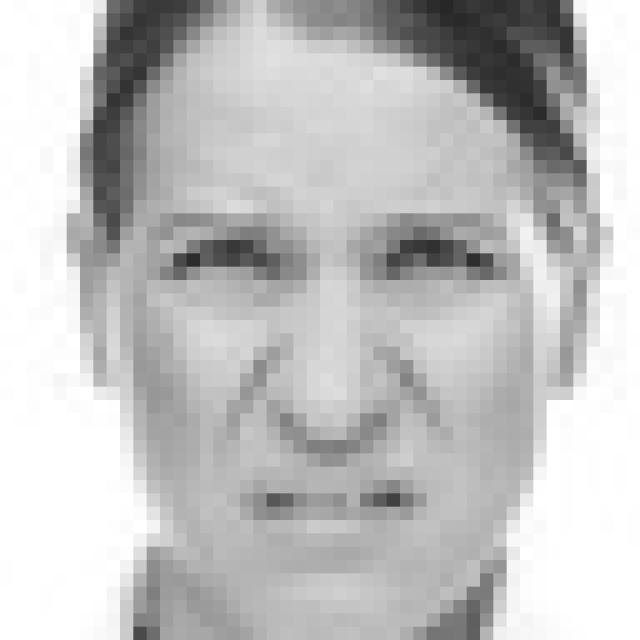disgust: (149, 203, 506, 572)
